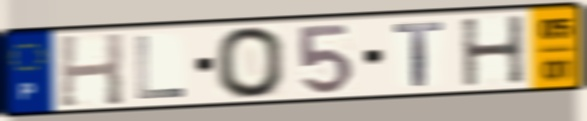5: (295, 21, 358, 96)
H: (56, 31, 126, 110), (458, 13, 528, 89)
L: (132, 34, 188, 102)
O: (212, 24, 289, 101)
T: (390, 19, 446, 89)
